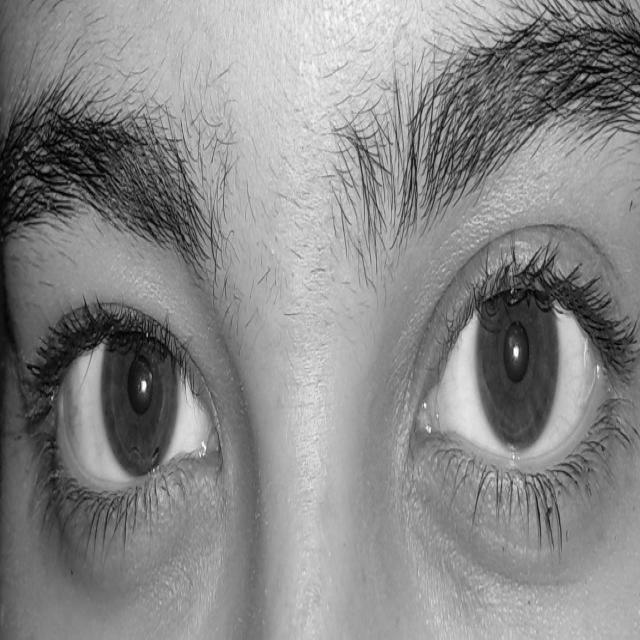real: (14, 80, 634, 594)
